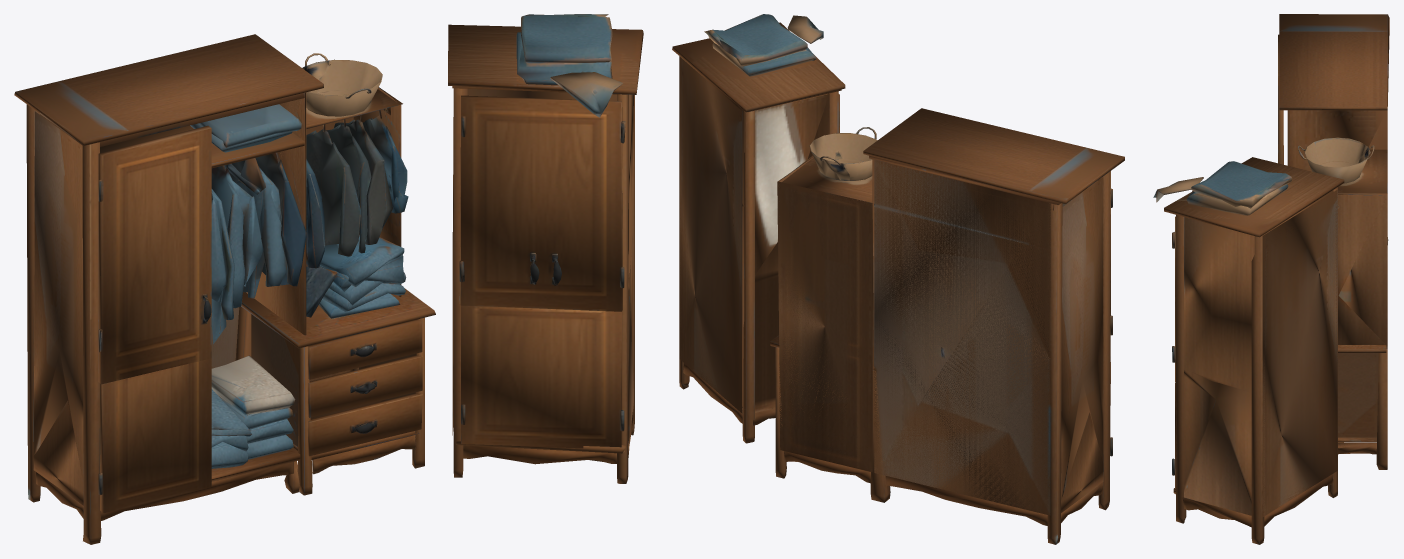
Rendered from interior-home-wardrobe.glb.
The picture shows the model from 3 angles, left to right: view 1: azimuth 30°, elevation 25°; view 2: azimuth 150°, elevation 25°; view 3: azimuth 270°, elevation 25°; orthographic projection. The views are drawn at different scales.
Size of the model in its own units: 0.9536 by 0.7124 by 0.4531.
Materials: 1 (1 with a texture image).
